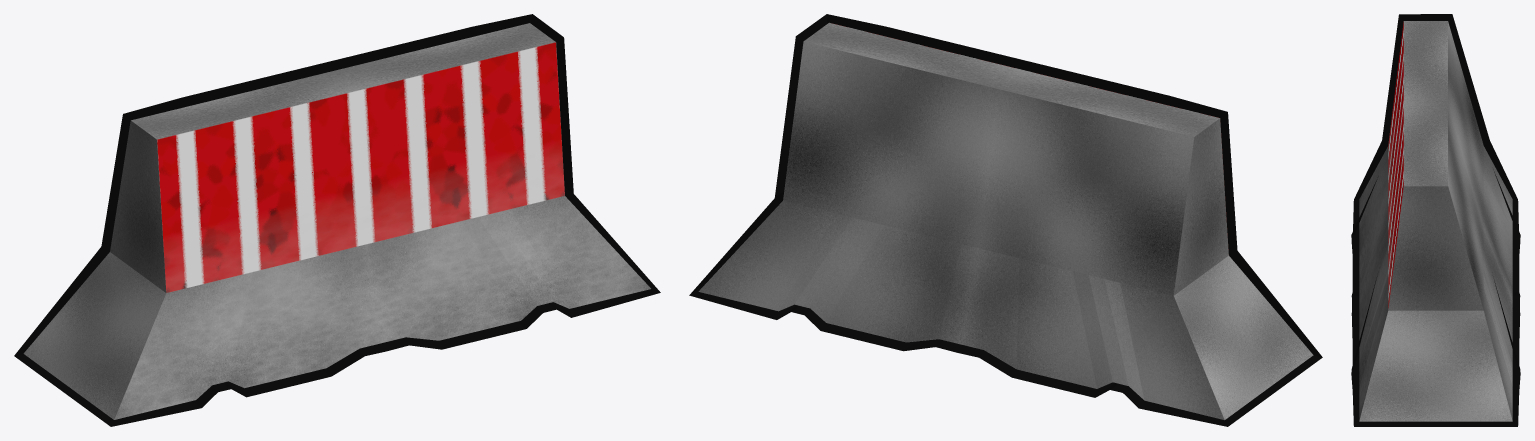
The model's file is concrete_blockade.glb.
3 renders of one model, left to right at view 1: azimuth 30°, elevation 25°; view 2: azimuth 150°, elevation 25°; view 3: azimuth 270°, elevation 25°, orthographic. The views are drawn at different scales.
Visible parts, largest first — view 1: Cube; view 2: Cube; view 3: Cube.
Part boxes in pixels (x1,y1,x2,y2): Cube: (14, 14, 660, 426); Cube: (689, 14, 1322, 426); Cube: (1351, 14, 1520, 426).
Bounding box in the file's own units: 9.59 × 4.29 × 3.01.
Materials: 2 (1 with a texture image).
